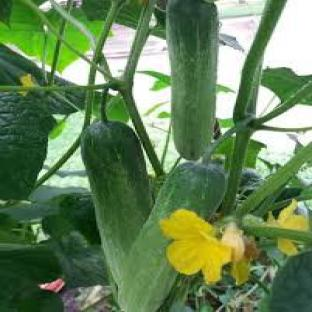Cucumber: (120, 162, 226, 311), (81, 121, 152, 284), (0, 92, 54, 200)
